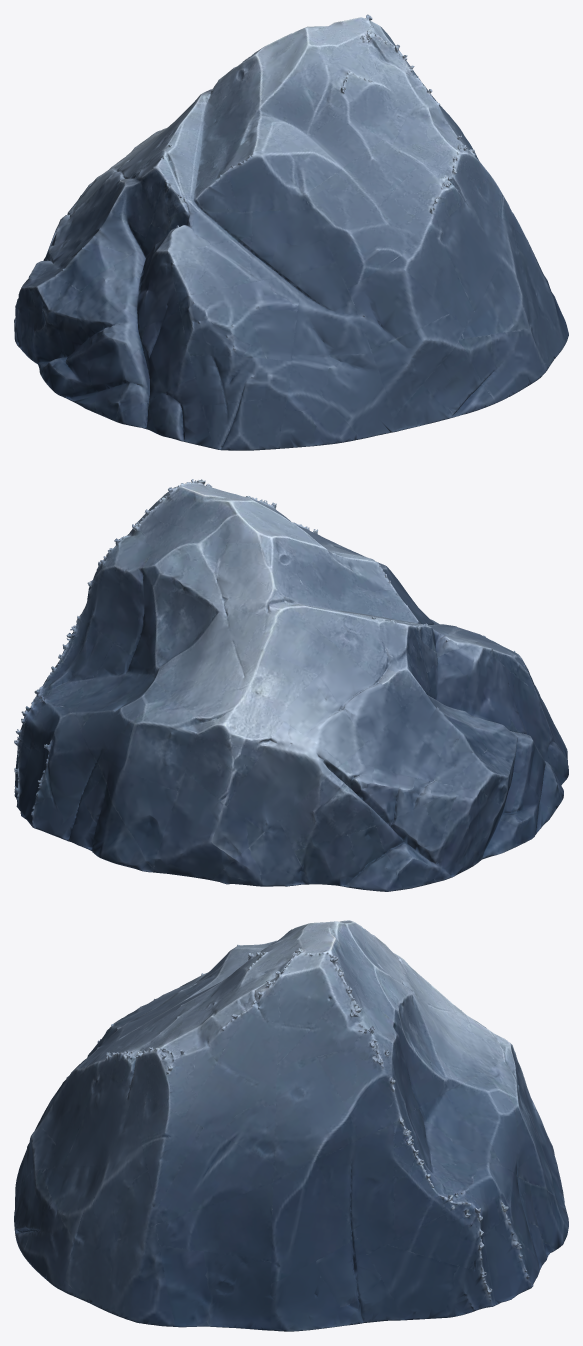
File: boulder.glb
3 views of the same model, one above another, from view 1: azimuth 30°, elevation 25°; view 2: azimuth 150°, elevation 25°; view 3: azimuth 270°, elevation 25° (orthographic). The views are drawn at different scales.
Visible parts, largest first — view 1: mesh_node; view 2: mesh_node; view 3: mesh_node.
Part boxes in pixels (bbox=[...]): mesh_node: bbox=[14, 14, 568, 450]; mesh_node: bbox=[14, 479, 568, 891]; mesh_node: bbox=[14, 920, 568, 1331].
Bounding box in the file's own units: 1.9 × 1.12 × 1.81.
Materials: 1 (1 with a texture image).
